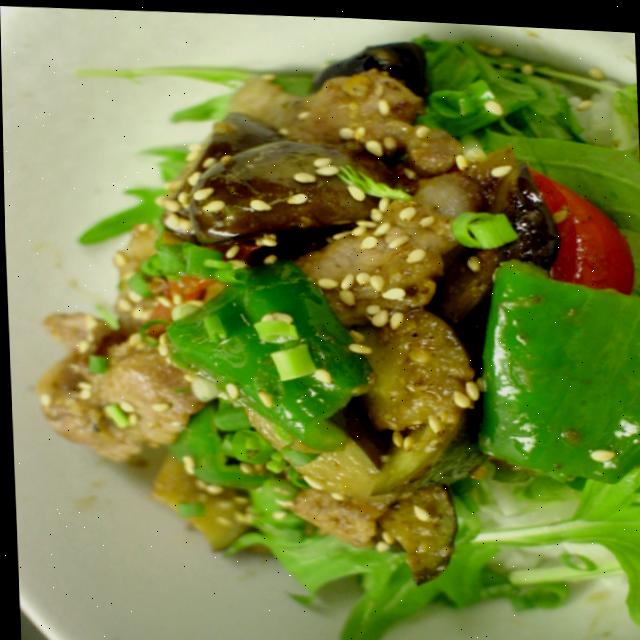鸡蛋料理: (11, 26, 623, 610)
